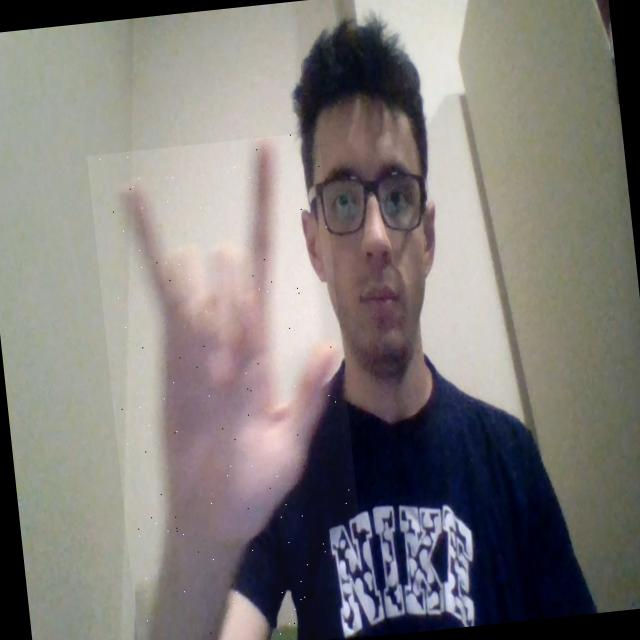iloveyou: (86, 131, 371, 640)
